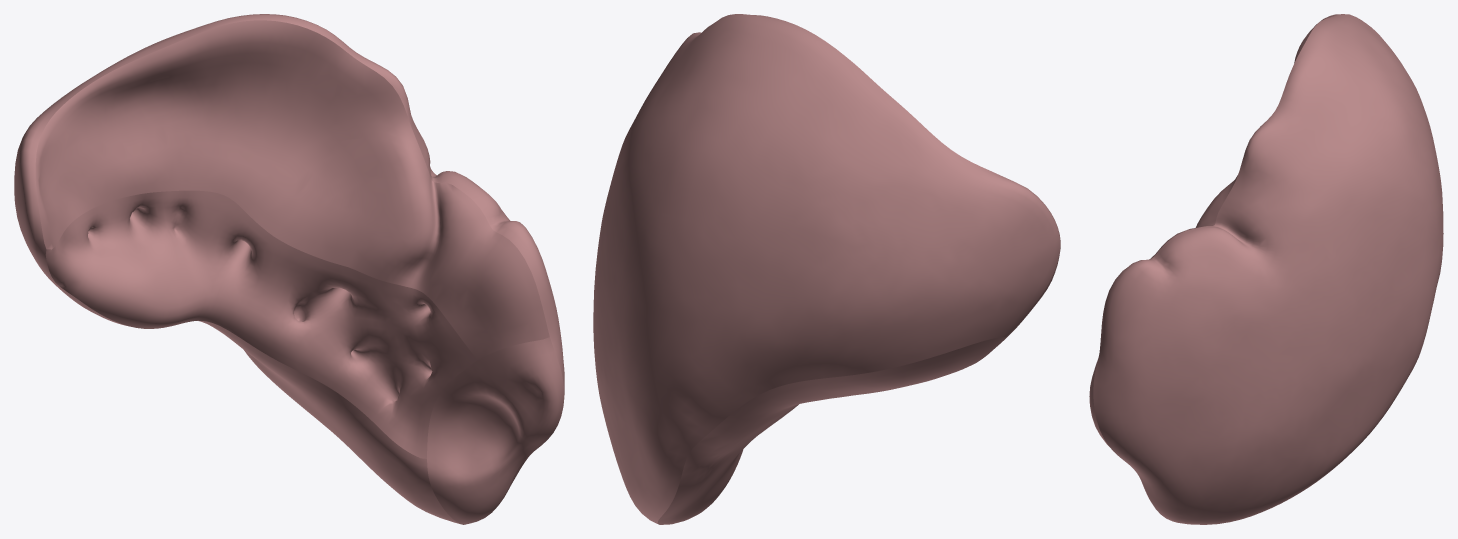
Rendered from spleen.glb.
3 views of the same model, side by side, from view 1: azimuth 30°, elevation 25°; view 2: azimuth 150°, elevation 25°; view 3: azimuth 270°, elevation 25° (orthographic). The views are drawn at different scales.
Visible parts, largest first — view 1: VH_M_colic_surface_of_spleen; view 2: VH_M_colic_surface_of_spleen; view 3: VH_M_colic_surface_of_spleen.
Part boxes in pixels (x1,y1,x2,y2): VH_M_colic_surface_of_spleen: (14,14,564,524); VH_M_colic_surface_of_spleen: (593,14,1060,524); VH_M_colic_surface_of_spleen: (1089,14,1443,524).
Size of the model in its own units: 0.1104 by 0.1186 by 0.0886.
